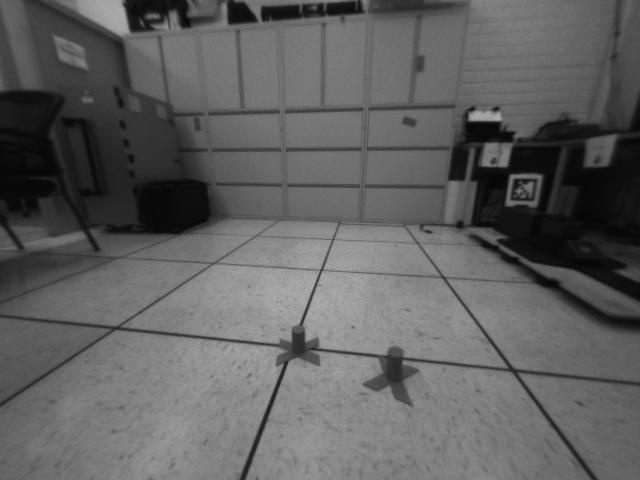X: (361, 344, 421, 406), (274, 323, 321, 367)
